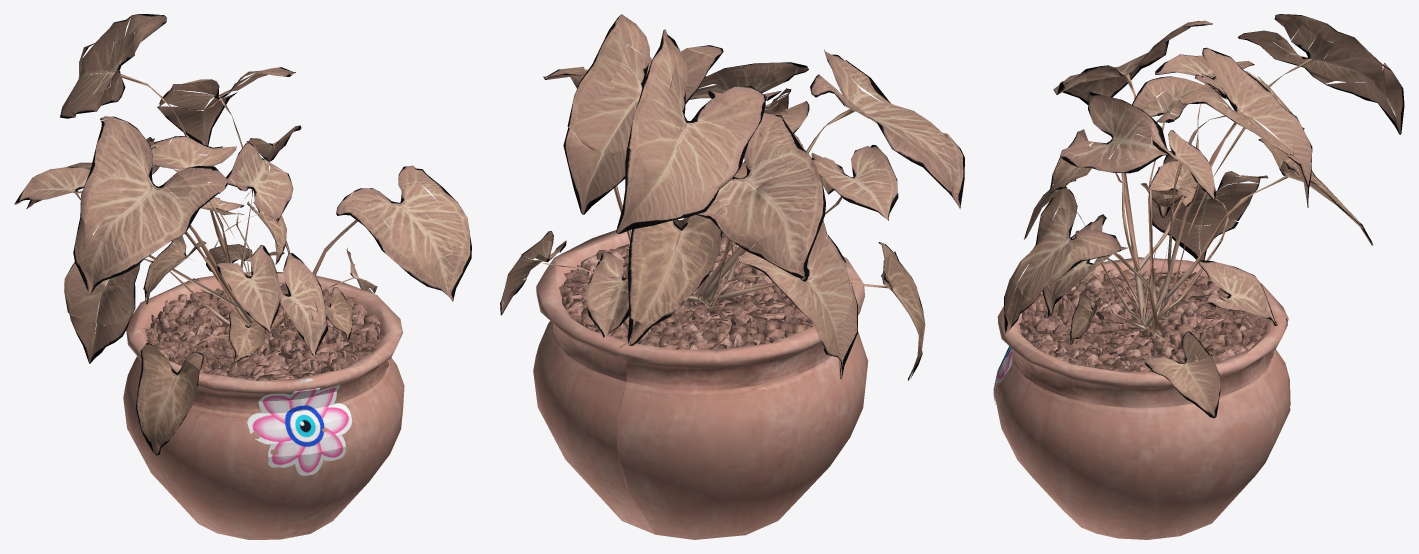
File: nyb_tenen_plant.glb
3 renders of one model, left to right at view 1: azimuth 30°, elevation 25°; view 2: azimuth 150°, elevation 25°; view 3: azimuth 270°, elevation 25°, orthographic. The views are drawn at different scales.
Parts seen in each view (by area): view 1: potted_plant_02_pot, stk_eyeflower_die.png; view 2: potted_plant_02_pot; view 3: potted_plant_02_pot.
Part boxes in pixels (x1=…): potted_plant_02_pot: x1=14, y1=14, x2=471, y2=539; stk_eyeflower_die.png: x1=247, y1=378, x2=352, y2=475; potted_plant_02_pot: x1=500, y1=14, x2=964, y2=539; potted_plant_02_pot: x1=994, y1=14, x2=1404, y2=539.
Size of the model in its own units: 0.7008 by 0.8423 by 0.6593.
3 materials, 3 textured.
